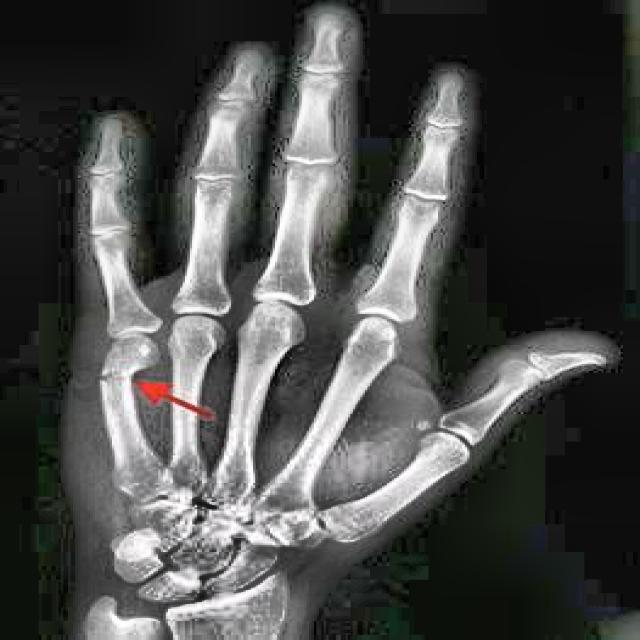fracture: (95, 369, 136, 387)
